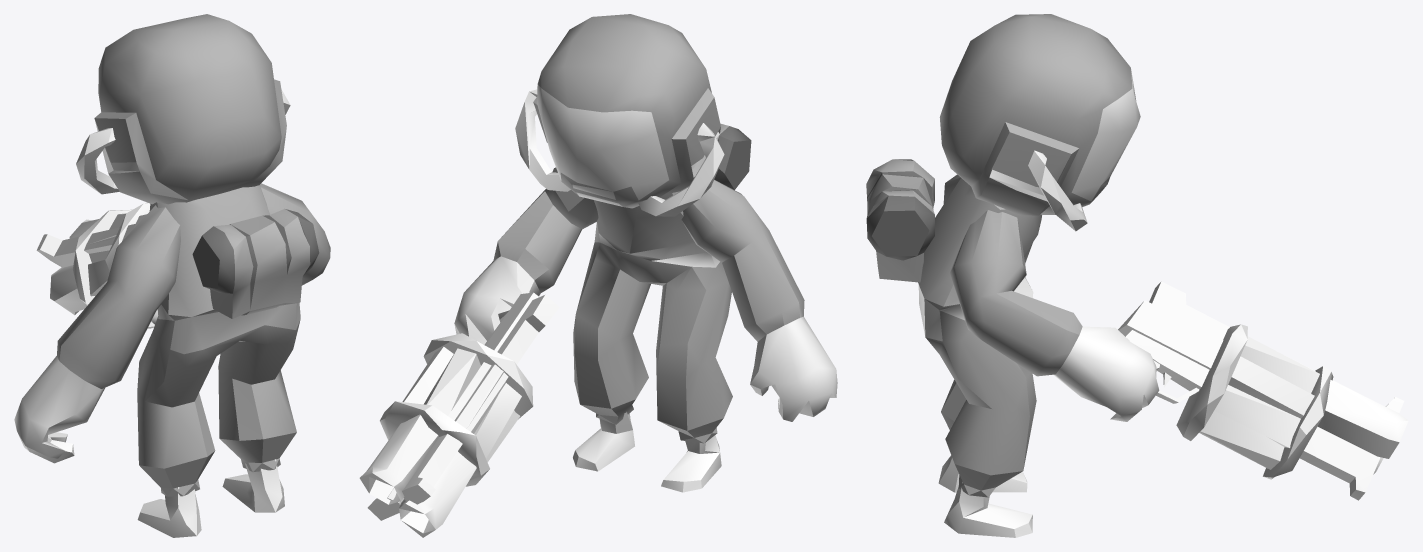
The model's file is amber_scout.glb.
3 views of the same model, side by side, from view 1: azimuth 30°, elevation 25°; view 2: azimuth 150°, elevation 25°; view 3: azimuth 270°, elevation 25° (orthographic). The views are drawn at different scales.
Visible parts, largest first — view 1: Body; view 2: Body; view 3: Body.
Part boxes in pixels (x1=…): Body: x1=14, y1=14, x2=330, y2=537; Body: x1=359, y1=14, x2=837, y2=537; Body: x1=866, y1=14, x2=1408, y2=537.
Size of the model in its own units: 1.29 by 1.8 by 1.83.
Materials: 2 (1 with a texture image).
